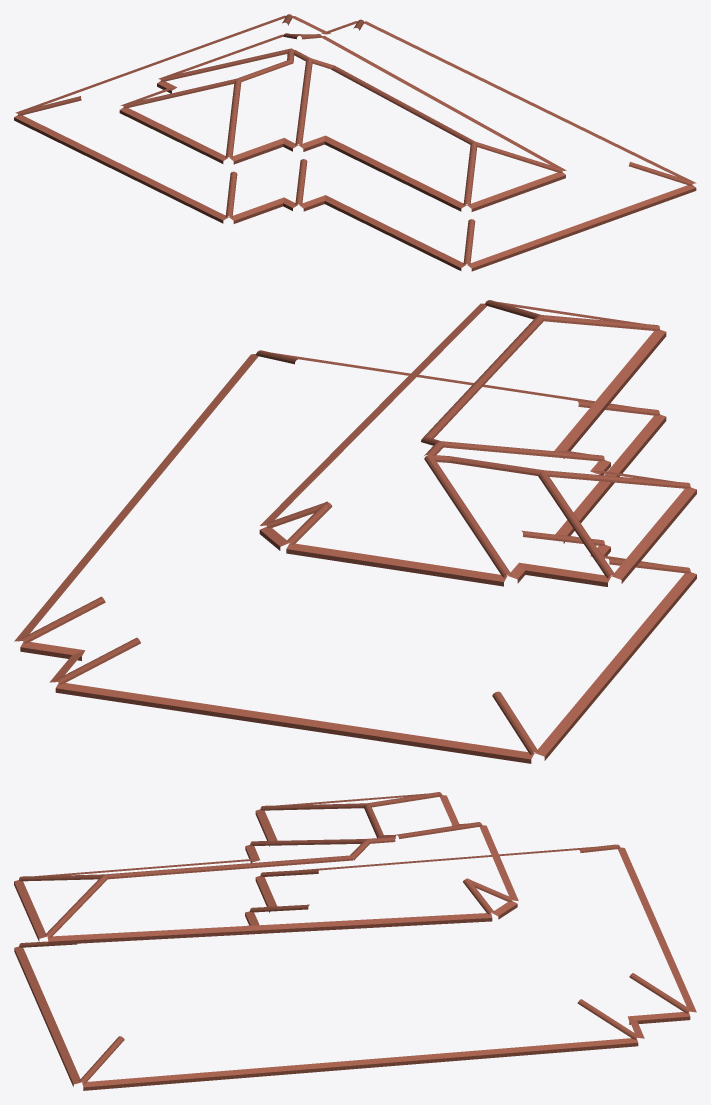
3 renders of one model, top to bottom at view 1: azimuth 30°, elevation 25°; view 2: azimuth 150°, elevation 25°; view 3: azimuth 270°, elevation 25°, orthographic. The views are drawn at different scales.
Visible parts, largest first — view 1: detail; view 2: detail; view 3: detail.
Part boxes in pixels (left/top/right/bottom): detail: left=14, top=14, right=696, bottom=271; detail: left=14, top=300, right=696, bottom=763; detail: left=14, top=792, right=696, bottom=1090.
Bounding box in the file's own units: 22.14 × 4.87 × 26.39.
